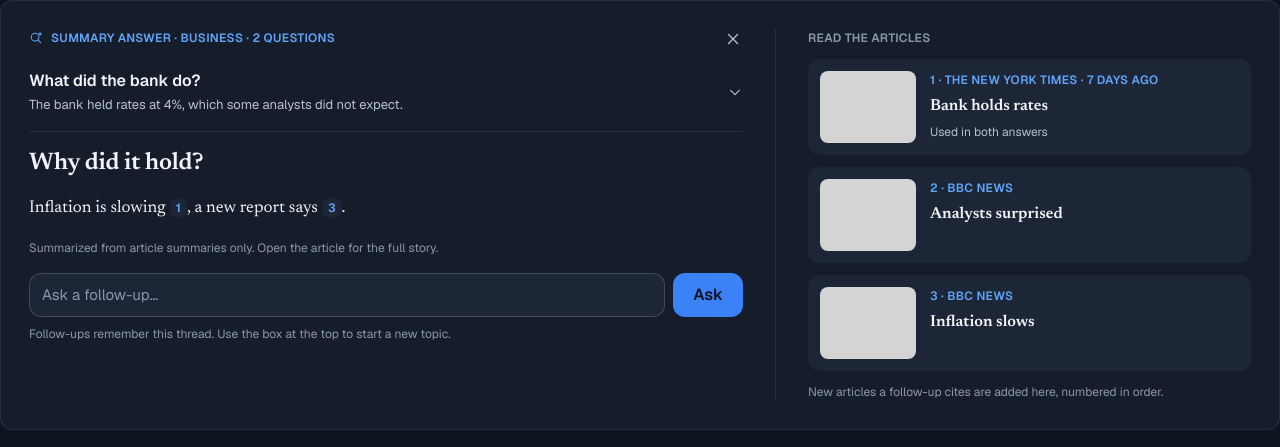
Test case: AnswerCard threads › collapses an earlier turn to one line that expands
Click the button "What did the bank do?" at (115, 80), box [29,65,743,119]
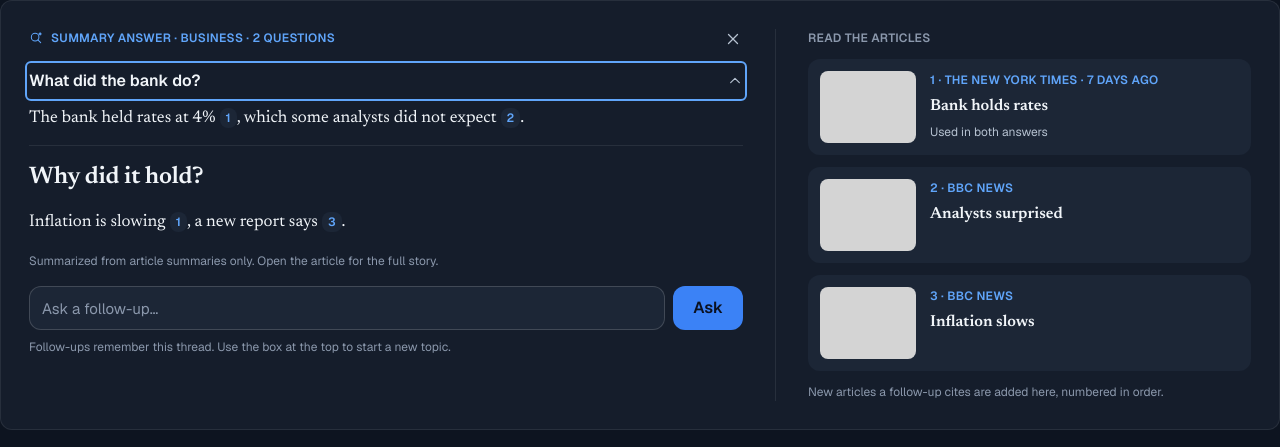
Result: the button "What did the bank do?" is expanded at [29,65,743,97]
